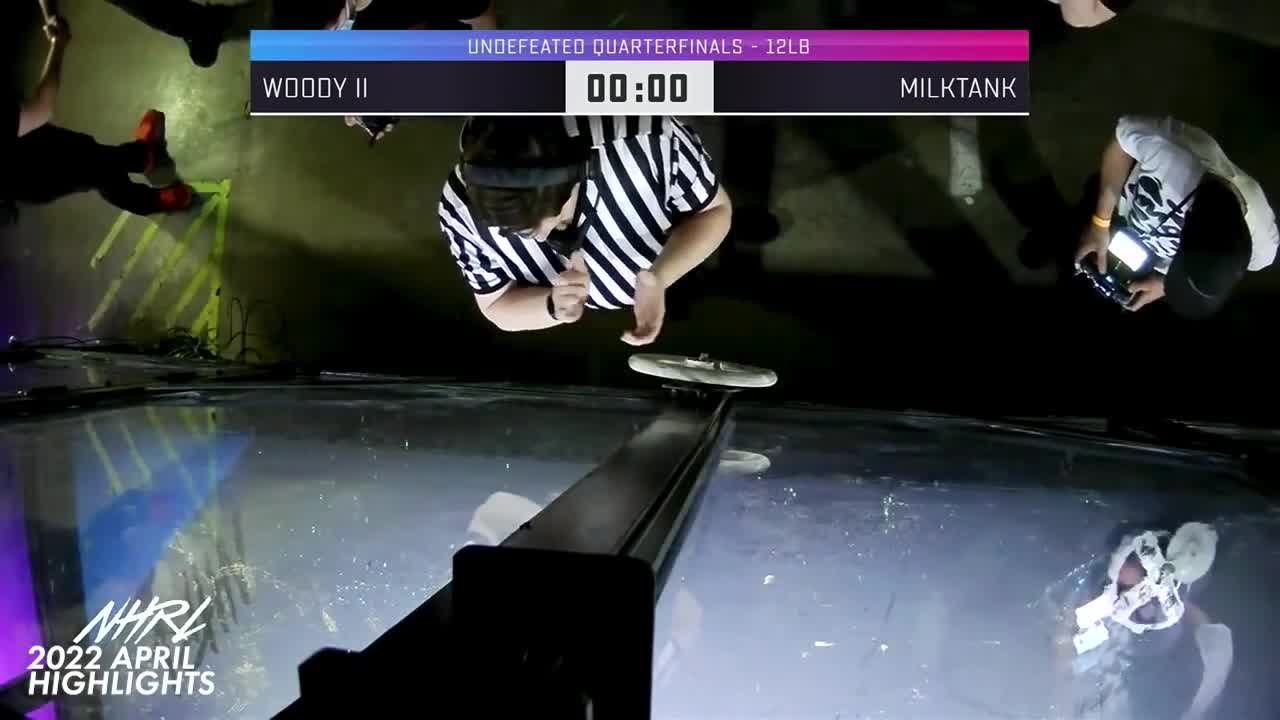combatbot: (1073, 521, 1218, 654)
